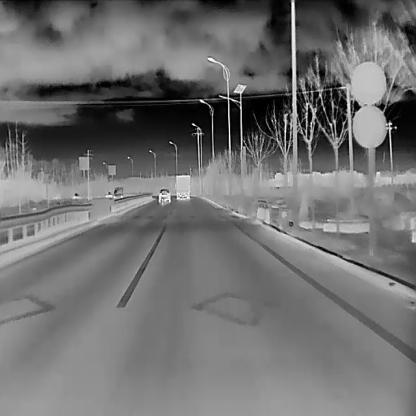car: (157, 188, 171, 203)
truck: (174, 174, 190, 199), (112, 186, 123, 199)
